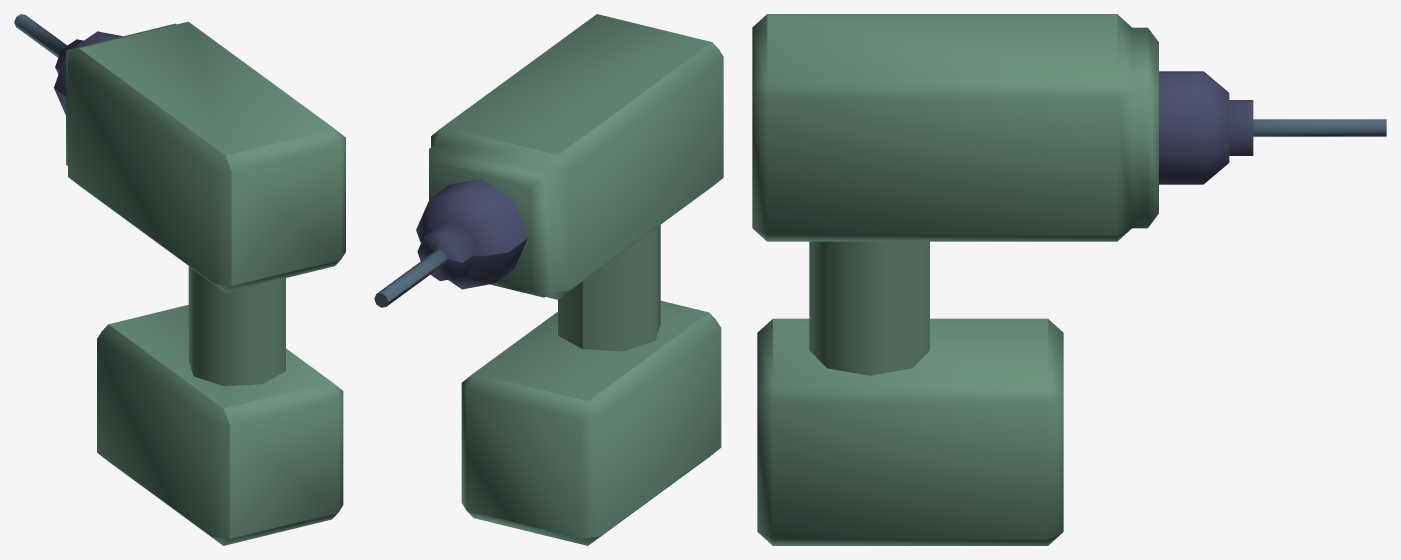
File: Drill.glb
3 renders of one model, left to right at view 1: azimuth 30°, elevation 25°; view 2: azimuth 150°, elevation 25°; view 3: azimuth 270°, elevation 25°, orthographic. The views are drawn at different scales.
Parts seen in each view (by area): view 1: Cube; view 2: Cube; view 3: Cube.
Boxes of the visible parts, box(x1,y1,x2,y2) form: Cube: box(14, 14, 345, 545); Cube: box(374, 14, 723, 545); Cube: box(752, 14, 1386, 545).
Size of the model in its own units: 0.6 by 1.71 by 2.1.
1 material, 1 textured.
